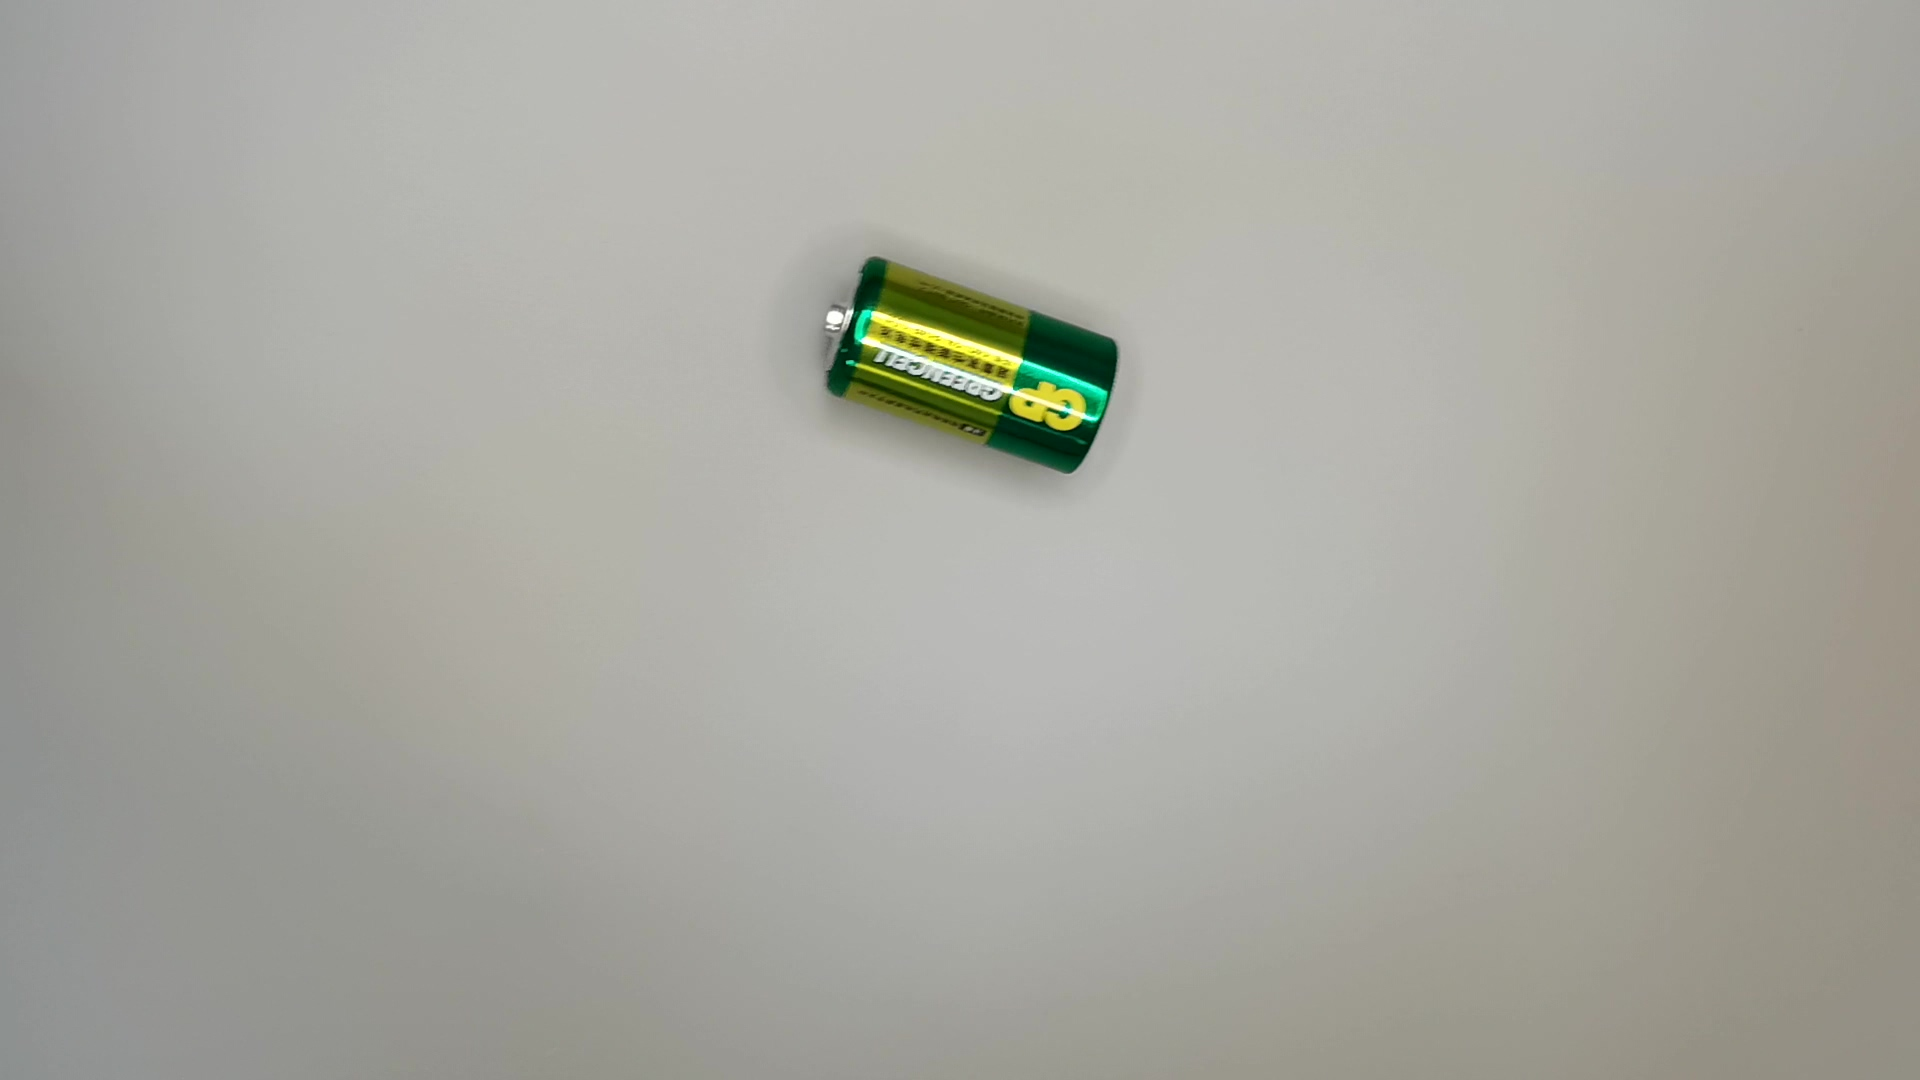battery: (825, 248, 1124, 479)
